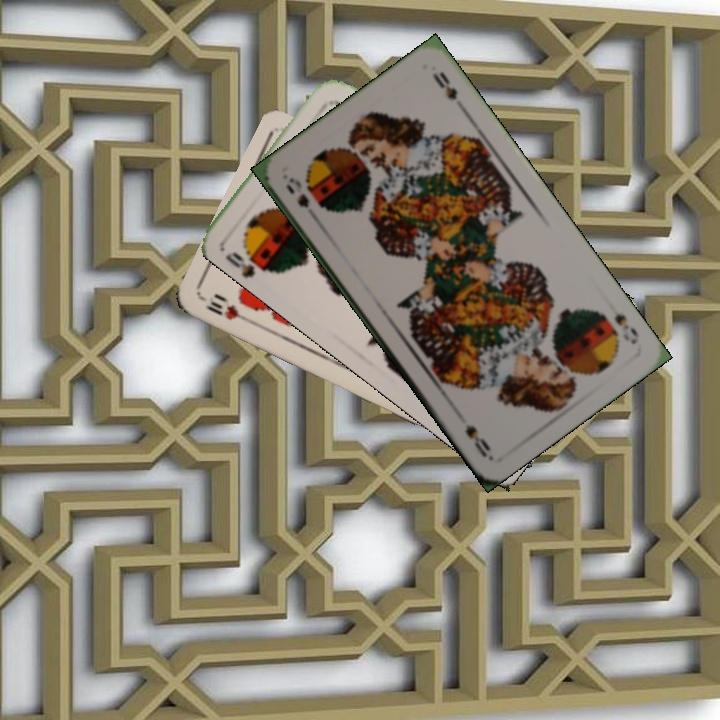H10: (198, 292, 254, 326)
SO: (221, 246, 277, 280), (610, 309, 642, 347), (282, 173, 312, 211)
